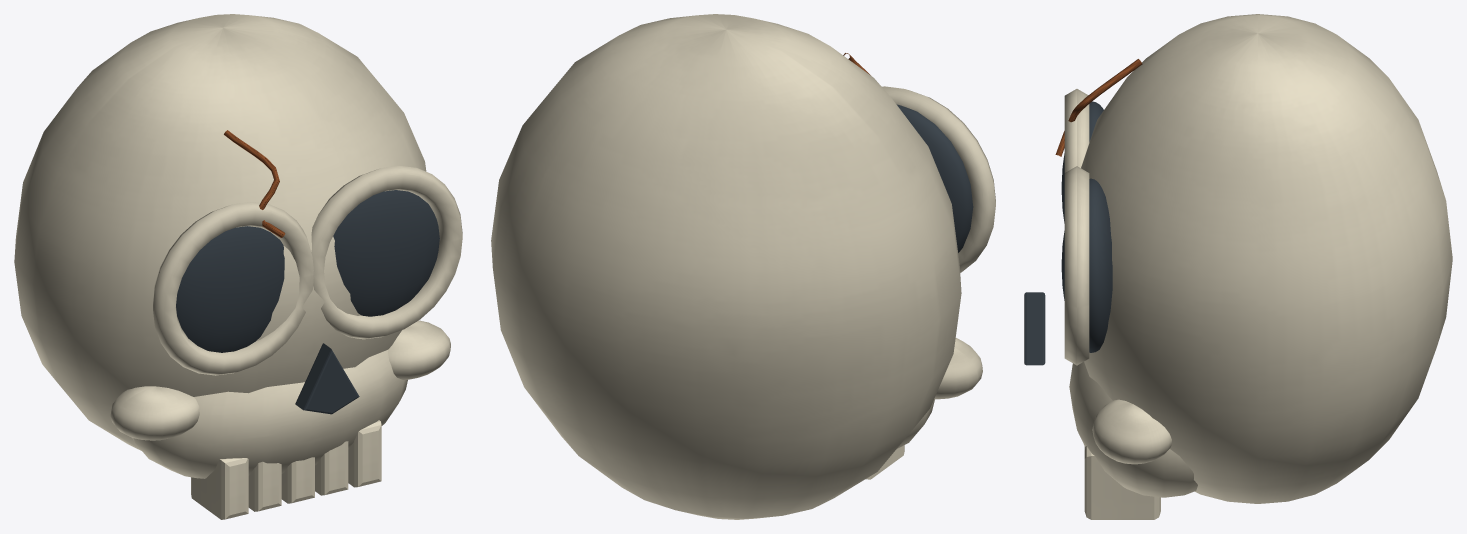
Rendered from human-skull.glb.
3 views of the same model, side by side, from view 1: azimuth 30°, elevation 25°; view 2: azimuth 150°, elevation 25°; view 3: azimuth 270°, elevation 25° (orthographic). The views are drawn at different scales.
Parts seen in each view (by area): view 1: weathered-human-skull; view 2: weathered-human-skull; view 3: weathered-human-skull.
Boxes of the visible parts, x1,y1,x2,y2 form: weathered-human-skull: (14, 14, 462, 519); weathered-human-skull: (491, 14, 995, 519); weathered-human-skull: (1024, 14, 1452, 519).
Size of the model in its own units: 0.4 by 0.424 by 0.365.
Materials: 3 (2 with a texture image).
